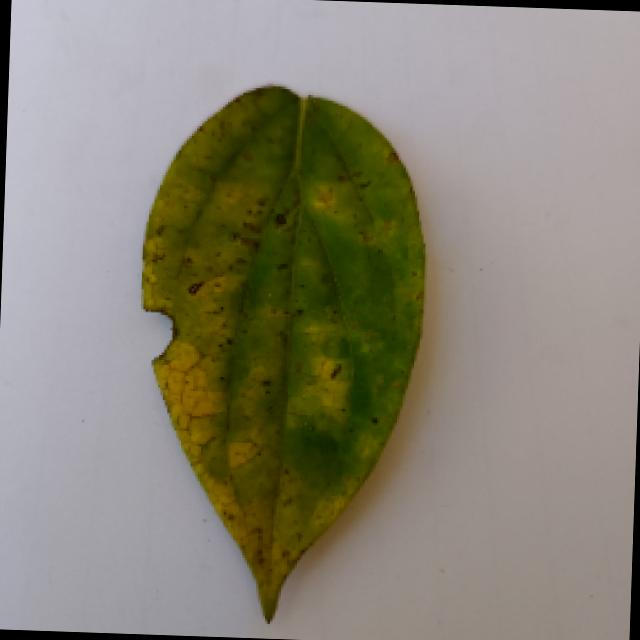slow-decline: (130, 79, 428, 626)
